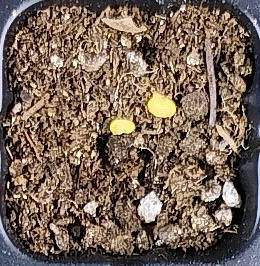pepper seed: (58, 31, 235, 150), (39, 50, 176, 186)
